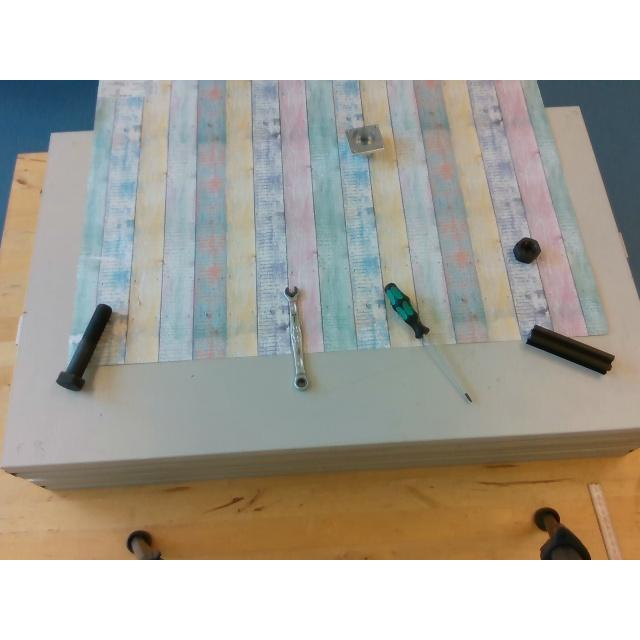F20_20_B: (526, 326, 614, 374)
M20: (512, 238, 540, 262)
M20_100: (57, 303, 111, 389)
Screwdriver: (384, 282, 476, 406)
Wrench: (285, 286, 309, 389)
